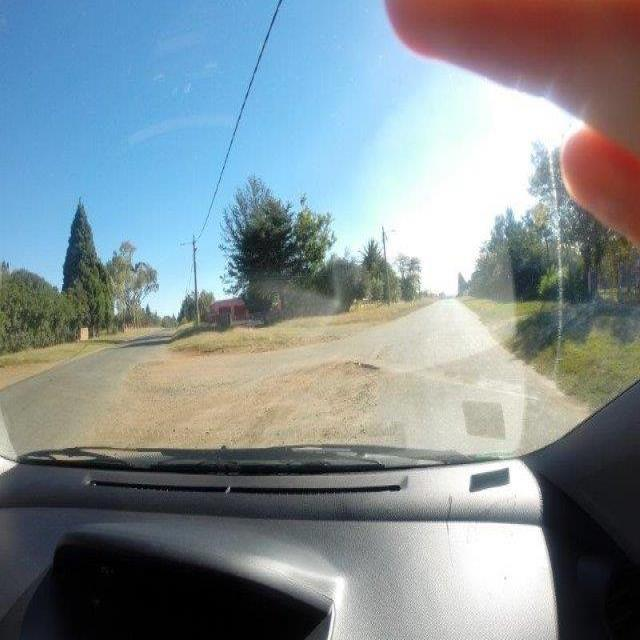lubang: (95, 382, 403, 445), (274, 356, 398, 378), (128, 350, 174, 390), (327, 357, 380, 383)
